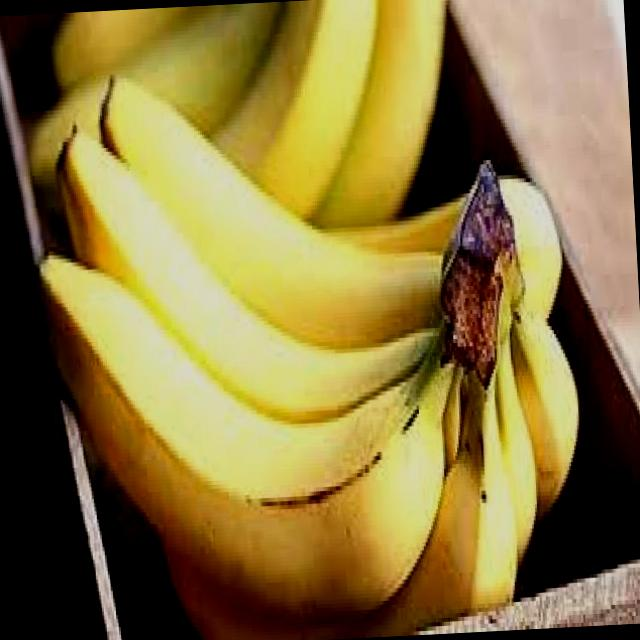Banana: (25, 47, 591, 640), (23, 0, 462, 244)
